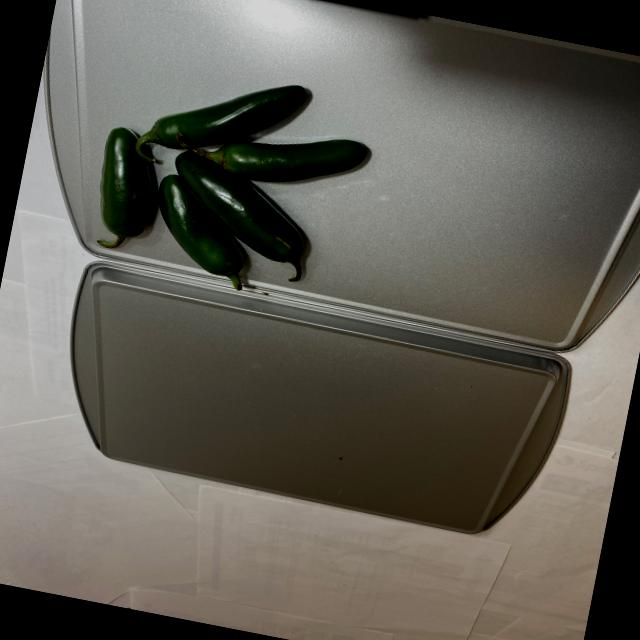chilli: (82, 40, 391, 312)
